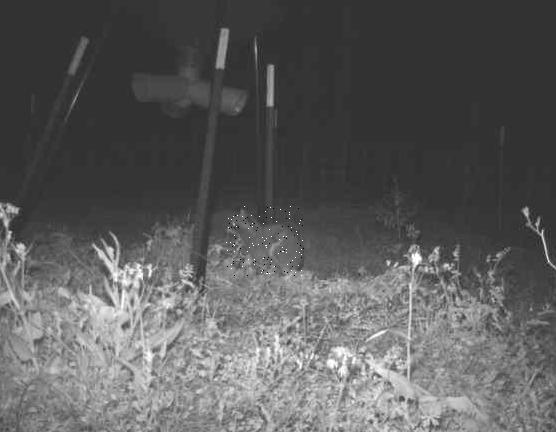Raccoon: (225, 206, 303, 276)
